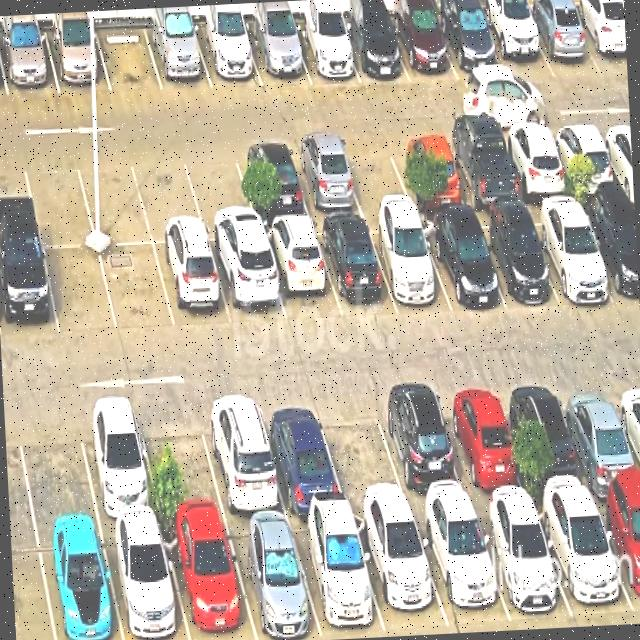empty: (136, 402, 226, 522), (316, 393, 409, 509), (14, 404, 99, 529), (182, 146, 260, 241), (75, 153, 153, 245), (132, 151, 207, 243), (22, 155, 96, 246), (100, 244, 175, 333), (44, 248, 117, 336), (337, 138, 413, 212), (95, 25, 163, 91)
occupied: (534, 497, 636, 624), (289, 514, 386, 640), (373, 387, 472, 510), (225, 519, 322, 640), (474, 504, 573, 622), (413, 507, 511, 626), (436, 383, 529, 505), (353, 513, 449, 631), (162, 521, 256, 640), (198, 393, 287, 518), (257, 396, 347, 514), (506, 380, 593, 501), (75, 402, 161, 524), (101, 523, 189, 640), (557, 378, 640, 496), (37, 526, 122, 640), (526, 203, 616, 303), (470, 212, 558, 308), (419, 216, 506, 312), (261, 222, 342, 323), (314, 219, 397, 317), (366, 218, 452, 312), (154, 242, 232, 329), (209, 241, 287, 325), (579, 202, 640, 306), (443, 131, 523, 209), (234, 143, 311, 222), (593, 492, 640, 615), (288, 141, 363, 217), (478, 8, 554, 82), (0, 244, 59, 339), (391, 135, 468, 207), (522, 8, 602, 77), (500, 126, 573, 200), (548, 123, 621, 195), (435, 10, 507, 81), (388, 10, 458, 83), (339, 16, 409, 83), (193, 24, 263, 89), (45, 27, 111, 94), (145, 24, 212, 90), (290, 21, 360, 84), (245, 24, 310, 86), (571, 5, 628, 74), (0, 30, 59, 96)
